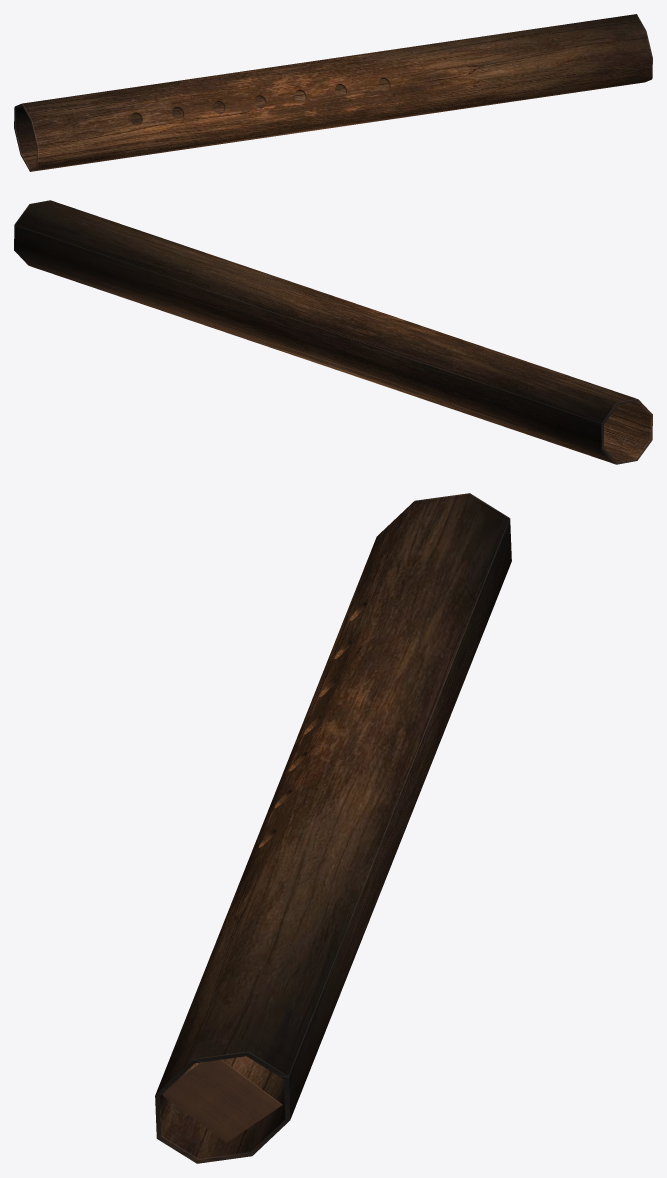
The model's file is _f;lute.FBX.
3 renders of one model, top to bottom at view 1: azimuth 30°, elevation 25°; view 2: azimuth 150°, elevation 25°; view 3: azimuth 270°, elevation 25°, orthographic. The views are drawn at different scales.
Visible parts, largest first — view 1: Cylinder001; view 2: Cylinder001; view 3: Cylinder001.
Boxes of the visible parts, <box> form: Cylinder001: <box>14,14,652,171</box>; Cylinder001: <box>14,200,652,464</box>; Cylinder001: <box>155,493,511,1163</box>.
Size of the model in its own units: 40.56 by 4.38 by 11.
